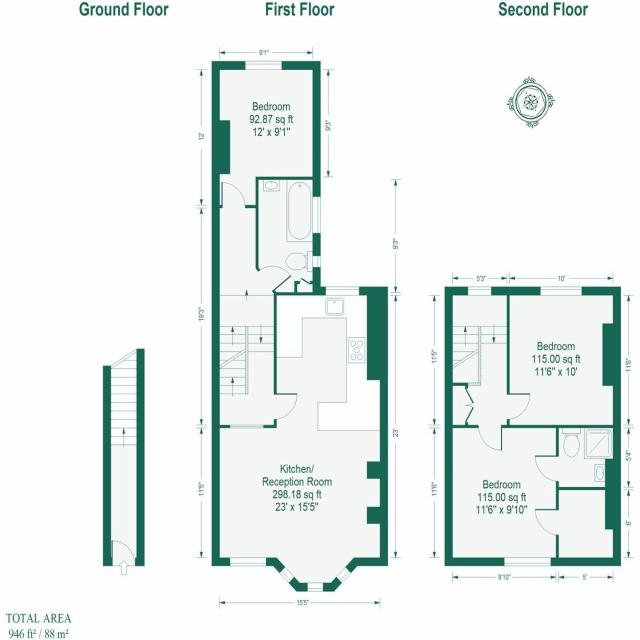DOOR: (257, 265, 293, 292), (477, 424, 503, 452), (534, 508, 560, 536), (534, 455, 559, 483), (506, 393, 531, 420), (273, 393, 298, 420), (221, 181, 246, 208)
ROOM: (212, 286, 388, 592), (444, 425, 559, 566), (507, 286, 621, 428), (211, 61, 321, 208)
WINDOW: (504, 557, 552, 566), (540, 286, 582, 296), (229, 557, 267, 567), (325, 286, 360, 296), (312, 196, 321, 234), (245, 61, 282, 70), (335, 566, 352, 584), (279, 566, 295, 584), (467, 286, 492, 296), (306, 582, 324, 592), (229, 424, 264, 429), (312, 255, 321, 268)
